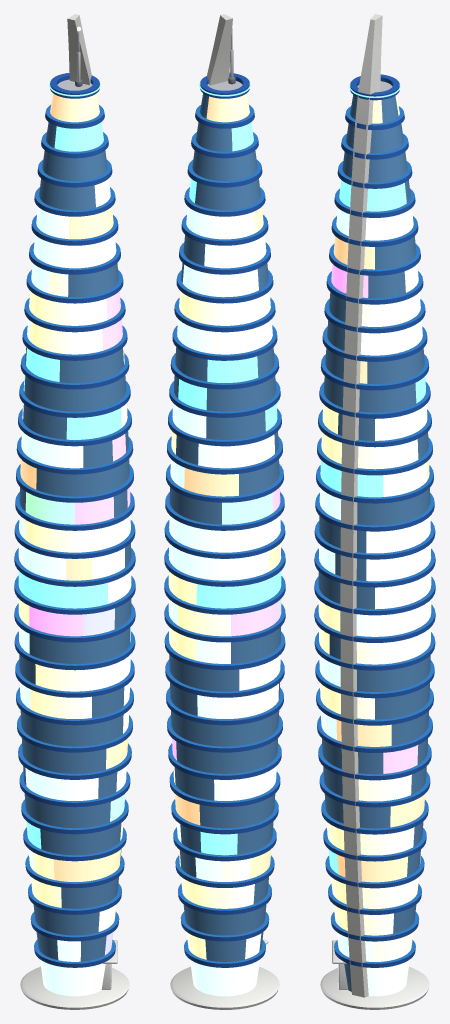
Rendered from arranha_ceu_ovo_espinha.glb.
The picture shows the model from 3 angles, left to right: view 1: azimuth 90°, elevation 25°; view 2: azimuth 150°, elevation 25°; view 3: azimuth 270°, elevation 25°; orthographic projection.
Parts seen in each view (by area): view 1: arranha_ceu_ovo_espinha; view 2: arranha_ceu_ovo_espinha; view 3: arranha_ceu_ovo_espinha.
Part boxes in pixels (x1,y1,x2,y2): arranha_ceu_ovo_espinha: [14, 14, 135, 1009]; arranha_ceu_ovo_espinha: [164, 14, 285, 1009]; arranha_ceu_ovo_espinha: [314, 14, 435, 1009].
Bounding box in the file's own units: 12.66 × 112 × 12.66.
11 materials, 1 textured.
